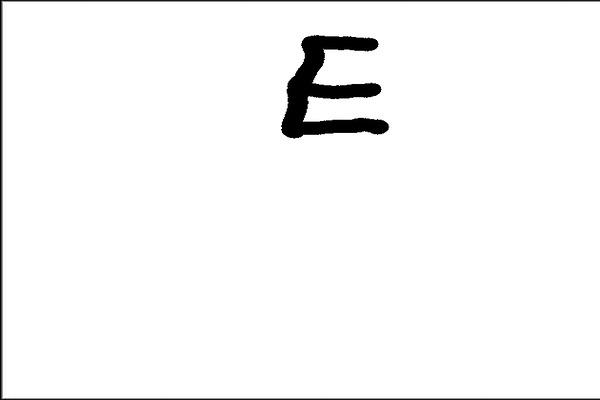E: (277, 30, 395, 143)
